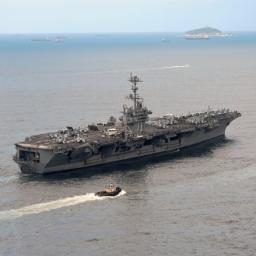Portanaves: (10, 73, 245, 181)
